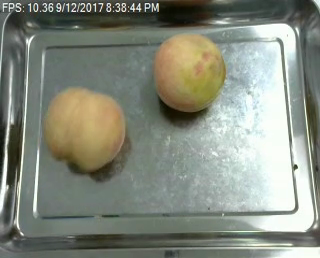Peach: (42, 87, 126, 172), (153, 32, 225, 112)
